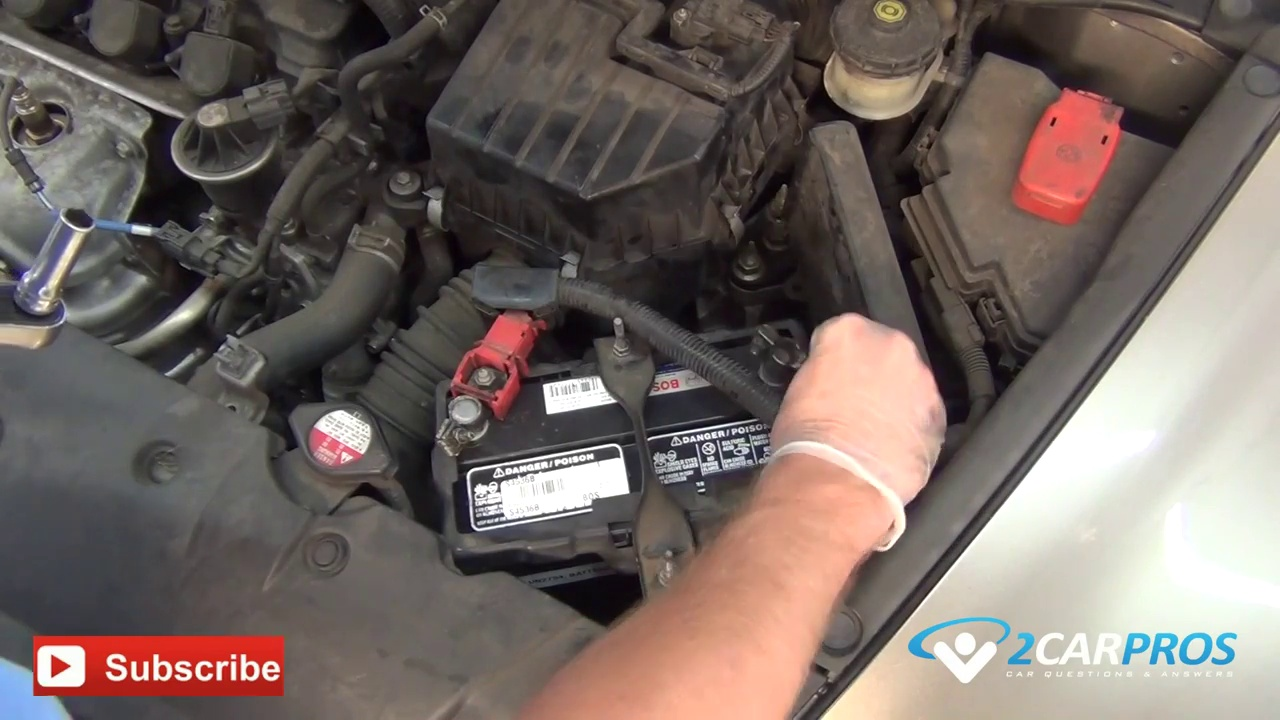battery: (434, 339, 837, 579)
neg_touched: (739, 302, 825, 396)
pos_connected: (434, 303, 570, 466)
